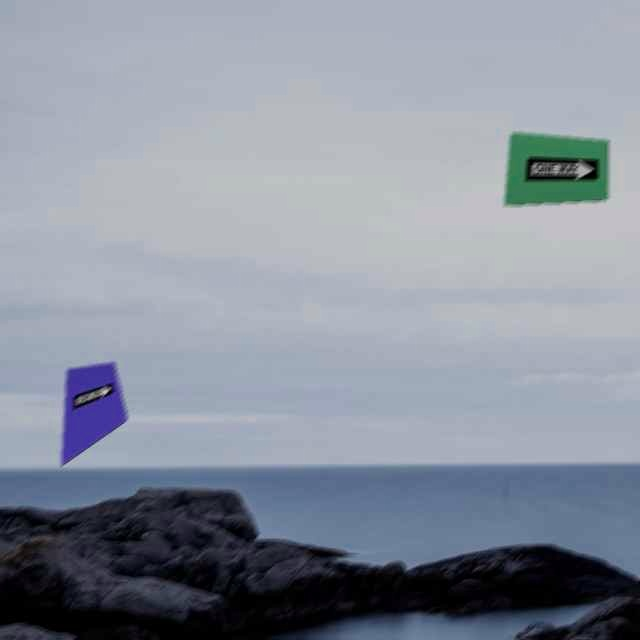ONE_WAY_ right: (526, 159, 598, 182), (73, 385, 114, 411)
